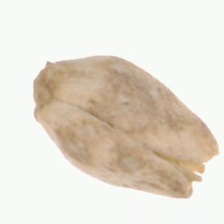L1: (152, 141, 220, 199), (32, 59, 59, 120)
L2: (31, 55, 220, 199)
